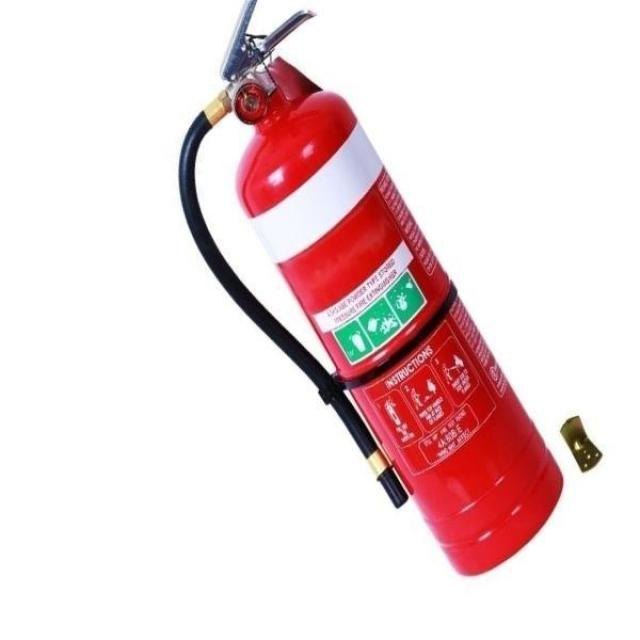fire_extinguisher: (170, 0, 565, 580)
